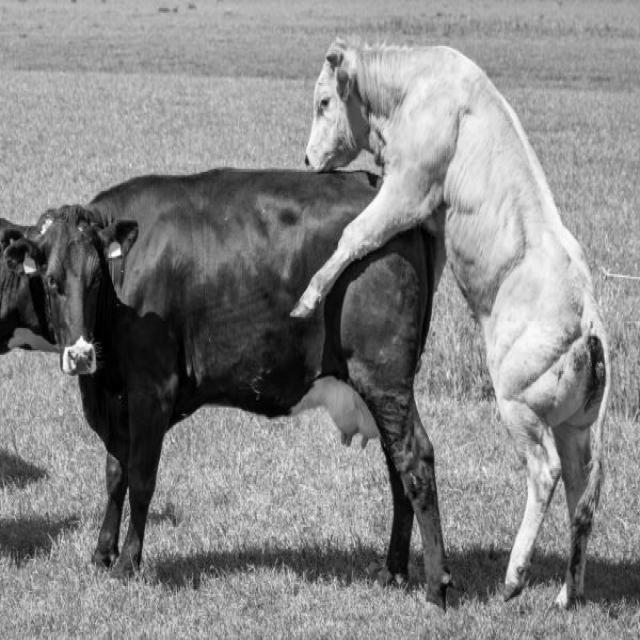cow: (34, 170, 450, 609), (292, 40, 612, 607)
